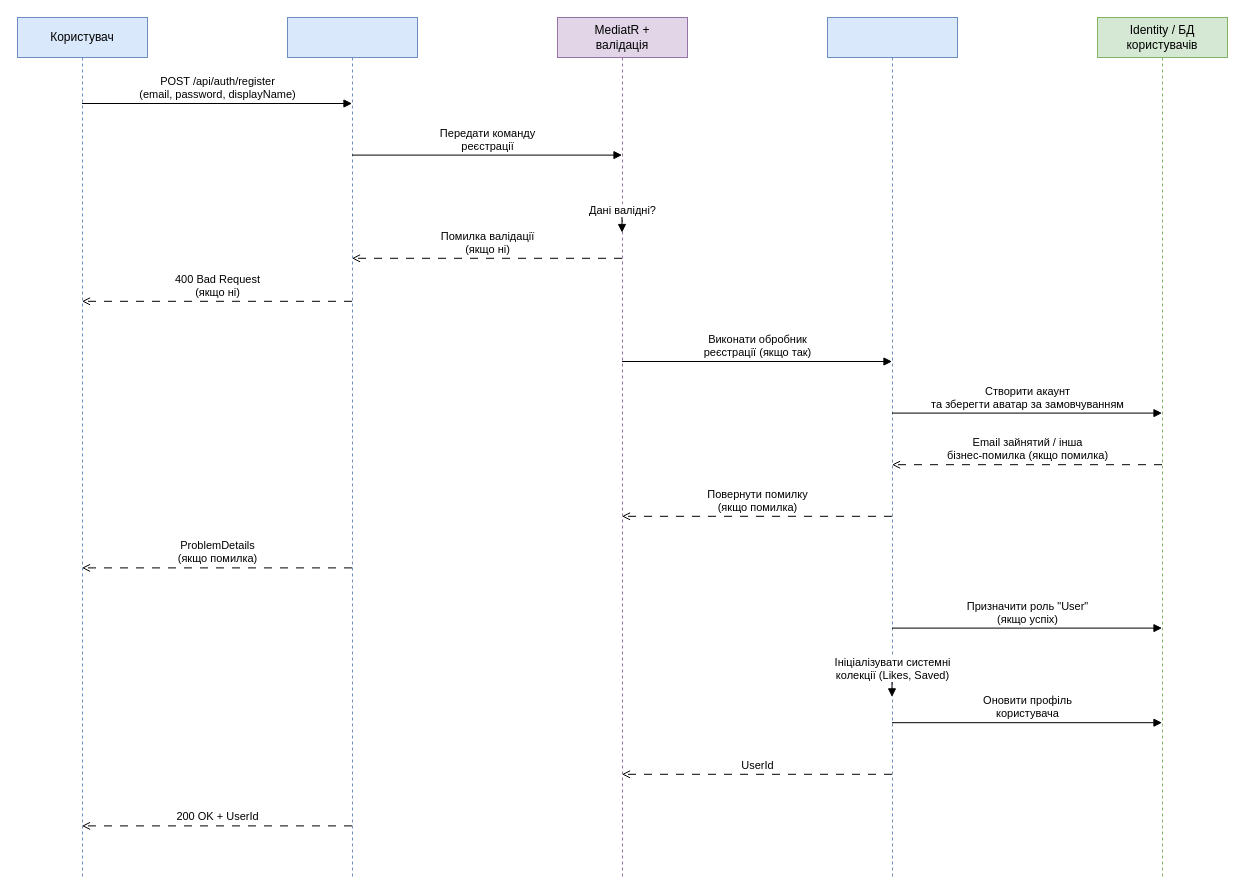
The diagram is 1245 pixels wide and 895 high, and some of its shapes have lost their labels. The box of each missing label's shape, as (x1, y1, x2, y2) in pixels:
Auth API: (286, 16, 418, 878)
Сервіс реєстрації: (826, 16, 958, 878)
